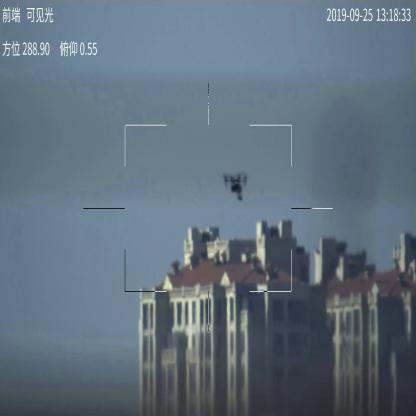uav: (219, 172, 248, 201)
